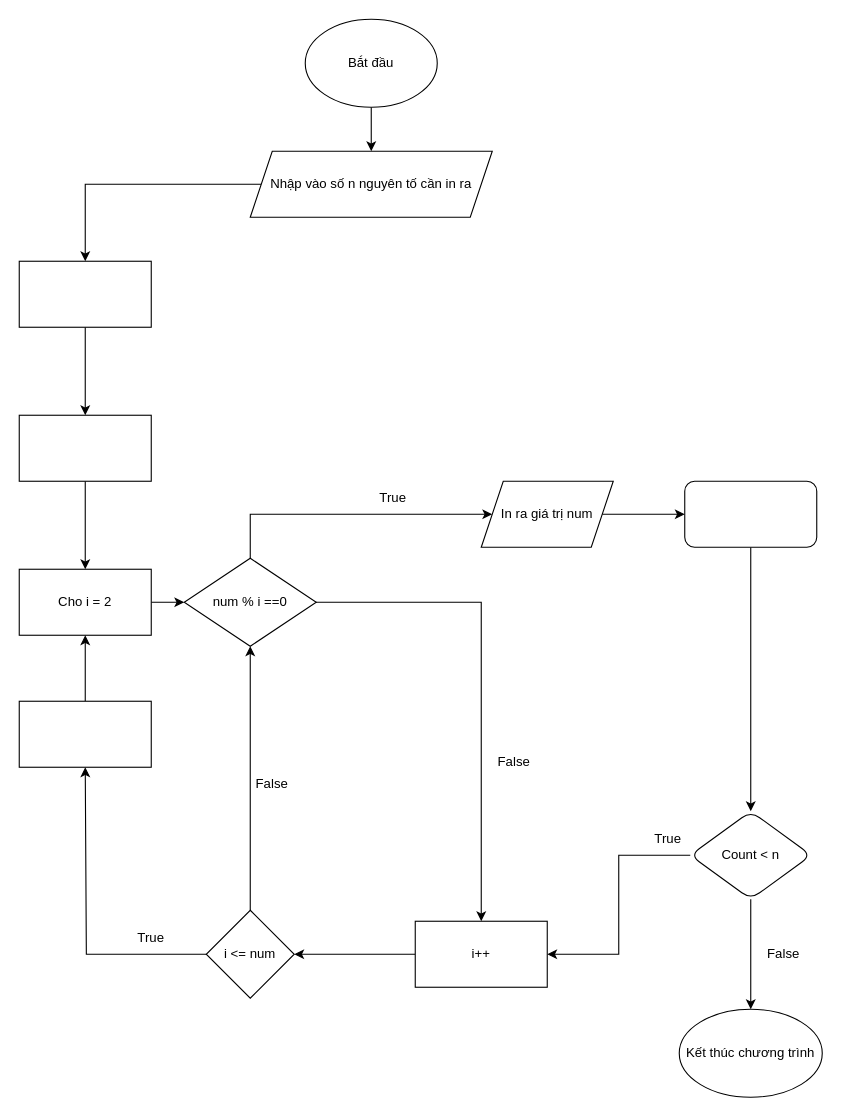
Image size: 842x1117. Some labels were removed from this diagram. The centre of each missing label's shape, as x and y in pixels:
Cho count = 0: (x=84, y=447)
Cho num = 2: (x=84, y=293)
Count ++: (x=750, y=513)
num++: (x=84, y=733)
